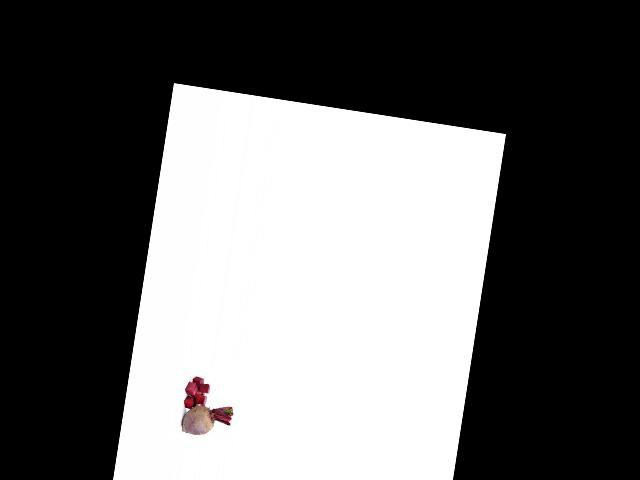beet: (180, 399, 233, 439)
